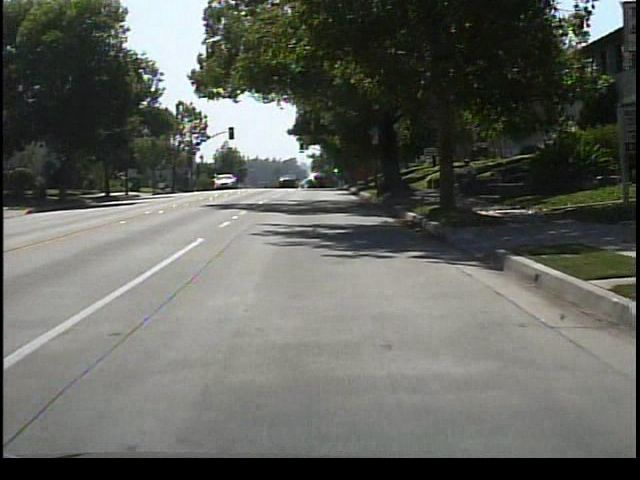person: (458, 155, 482, 198)
